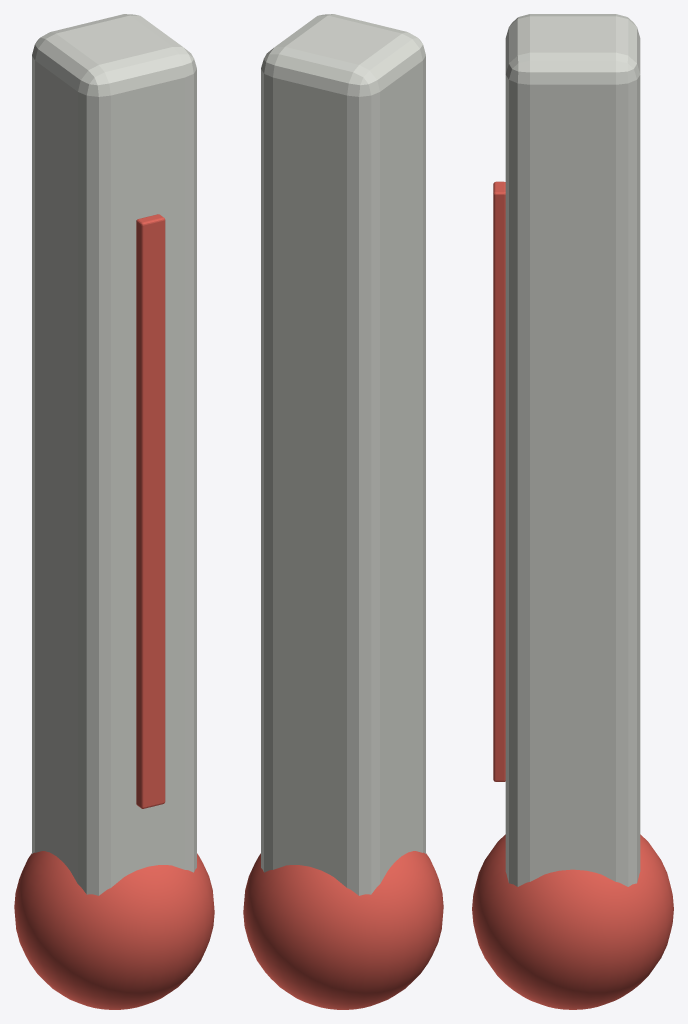
File: thermometer.glb
3 renders of one model, left to right at view 1: azimuth 30°, elevation 25°; view 2: azimuth 150°, elevation 25°; view 3: azimuth 270°, elevation 25°, orthographic.
Visible parts, largest first — view 1: Thermometer_Body, Thermometer_Bulb, Thermometer_Column; view 2: Thermometer_Body, Thermometer_Bulb; view 3: Thermometer_Body, Thermometer_Bulb, Thermometer_Column.
Part boxes in pixels (left/top/right/bottom): Thermometer_Body: left=32, top=14, right=196, bottom=895; Thermometer_Bulb: left=14, top=851, right=214, bottom=1009; Thermometer_Column: left=136, top=214, right=165, bottom=808; Thermometer_Body: left=261, top=14, right=425, bottom=895; Thermometer_Bulb: left=243, top=851, right=443, bottom=1009; Thermometer_Body: left=505, top=14, right=640, bottom=886; Thermometer_Bulb: left=472, top=834, right=673, bottom=1009; Thermometer_Column: left=493, top=181, right=505, bottom=781.
Bounding box in the file's own units: 0.18 × 0.95 × 0.18.
